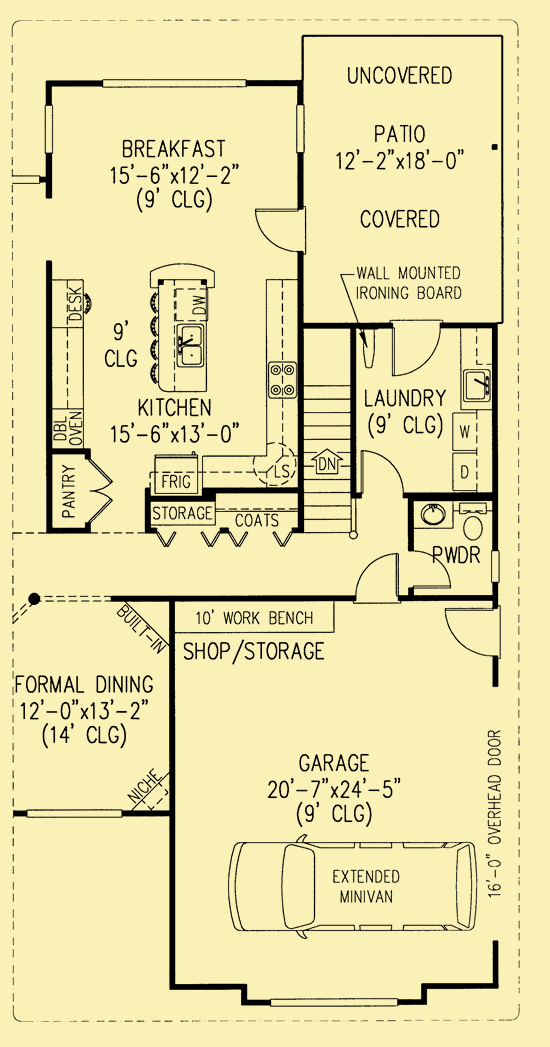bathroom has a small and large sink: (408, 493, 496, 605)
there is a garage with one car parking: (173, 600, 513, 1005)
there is a kitchen with kitche counter, cooking range and other appliance: (45, 254, 303, 536)
this laundry room is with washer and dryer: (350, 324, 501, 494)
